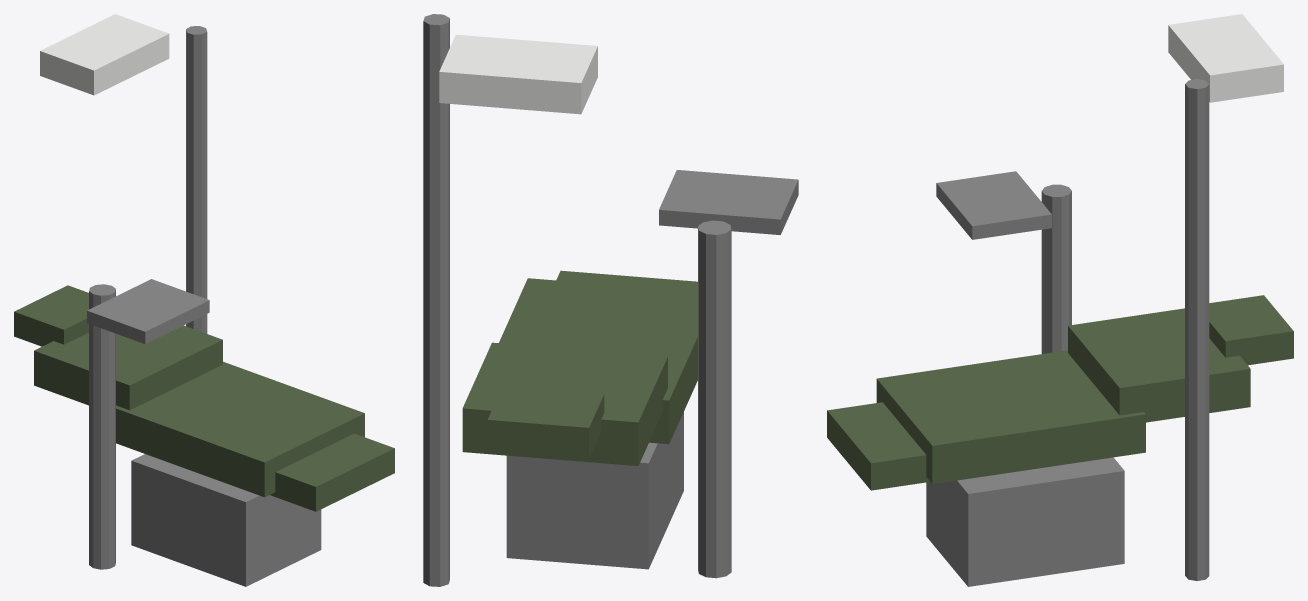
3 views of the same model, side by side, from view 1: azimuth 30°, elevation 25°; view 2: azimuth 150°, elevation 25°; view 3: azimuth 270°, elevation 25° (orthographic). The views are drawn at different scales.
Visible parts, largest first — view 1: sillon_ortho_5; view 2: sillon_ortho_5; view 3: sillon_ortho_5.
Boxes of the visible parts, x1,y1,x2,y2 form: sillon_ortho_5: (14,14,394,586); sillon_ortho_5: (423,14,798,586); sillon_ortho_5: (827,14,1293,586).
Bounding box in the file's own units: 1.02 × 1.55 × 1.8.
